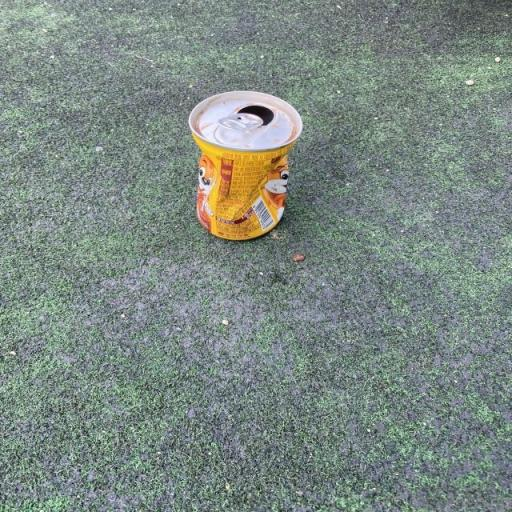metal: (160, 61, 322, 263)
